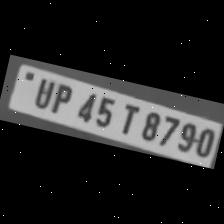0: (190, 122, 218, 161)
4: (70, 87, 100, 124)
5: (89, 92, 119, 130)
7: (154, 110, 182, 150)
8: (134, 106, 164, 145)
9: (172, 116, 199, 155)
P: (46, 80, 76, 116)
T: (112, 99, 142, 138)
U: (28, 75, 57, 112)
